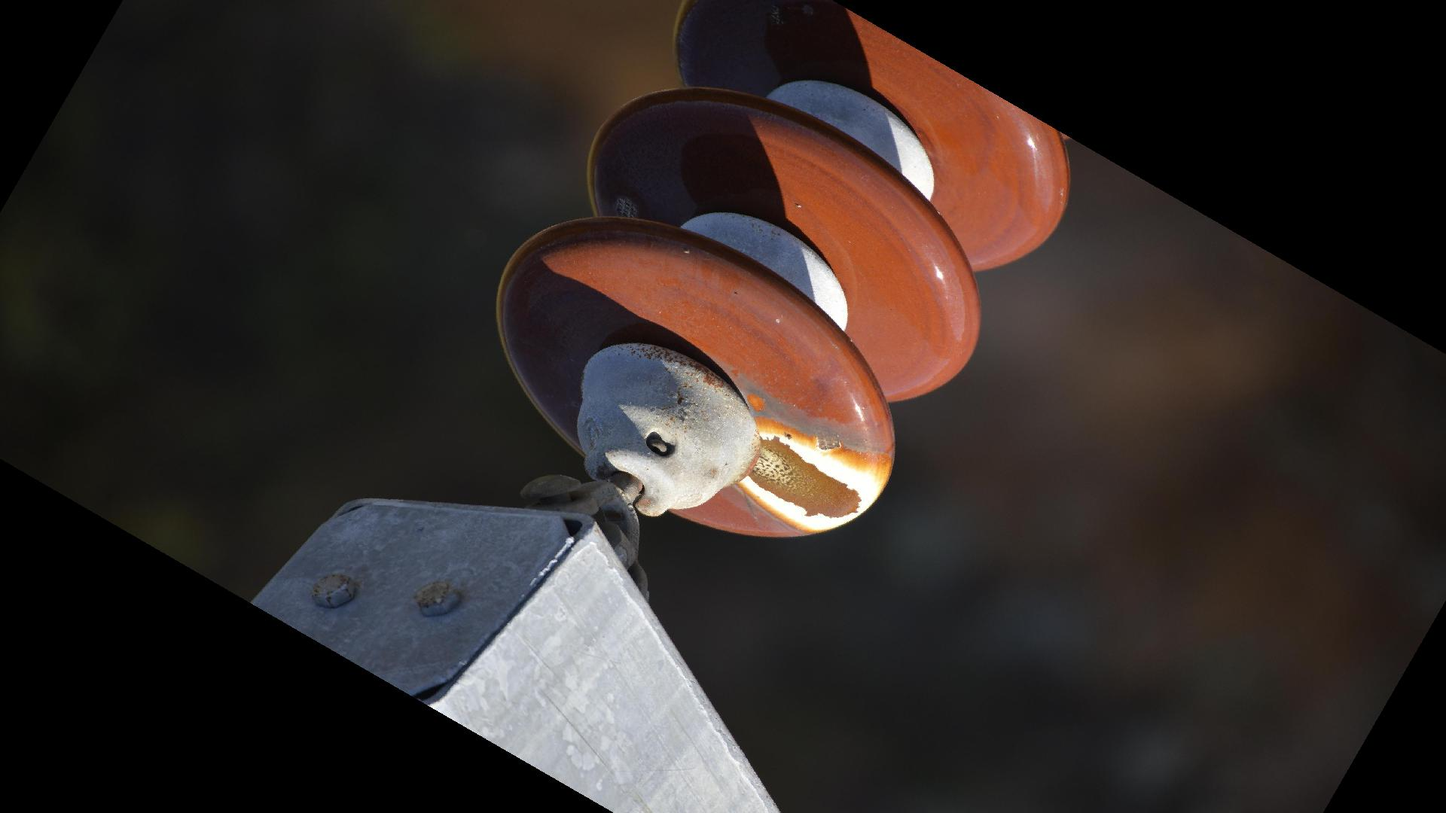insulator: (487, 1, 1081, 553)
insulator_flashover: (737, 413, 895, 537)
